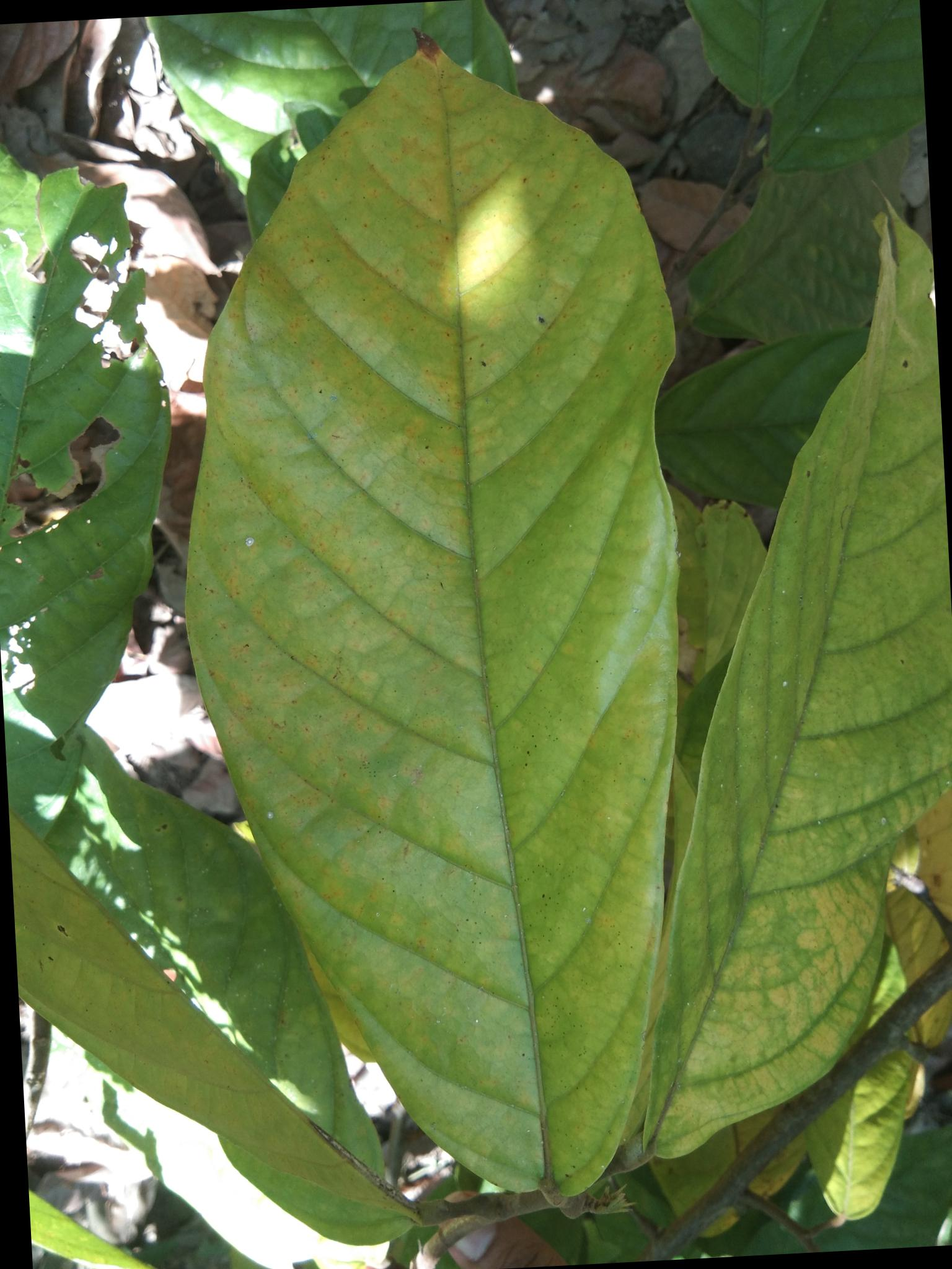Fosforo: (184, 38, 681, 1198)
